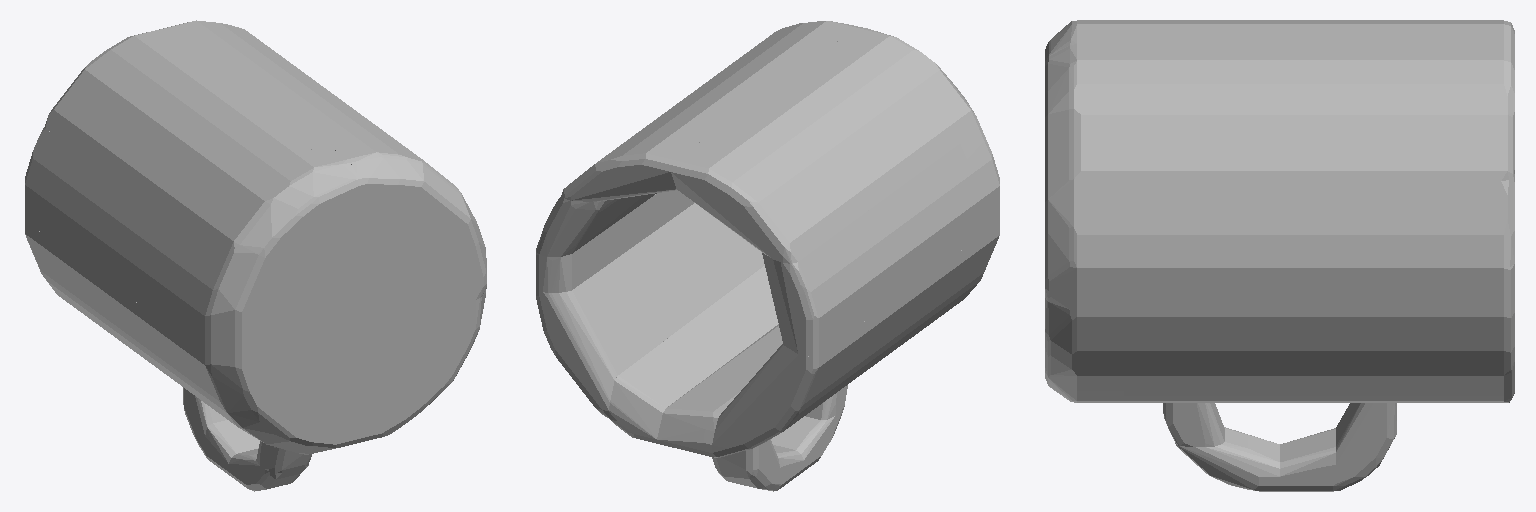
robot.urdf — root:
<?xml version="1.0"?>
<robot name="root">
  <link name="base_link">
    <visual>
      <origin xyz="0 0 0" rpy="0 0 0" />
      <geometry>
        <mesh filename="../meshes/unidex_core_mug-4b8b10d03552e0891898dfa8eb8eefff_006.obj" scale="1.0000E+00 1.0000E+00 1.0000E+00" />
      </geometry>
      <material name="">
        <color rgba="7.50E-01 7.50E-01 7.50E-01 1" />
      </material>
    </visual>
    <collision>
      <origin xyz="0 0 0" rpy="0 0 0" />
      <geometry>
        <mesh filename="../meshes/unidex_core_mug-4b8b10d03552e0891898dfa8eb8eefff_006.obj" scale="1.0000E+00 1.0000E+00 1.0000E+00" />
      </geometry>
    </collision>
  </link>
</robot>

--- Render facts (derived) ---
3 views of the same robot in one strip: view 1: azimuth 30°, elevation 25°; view 2: azimuth 150°, elevation 25°; view 3: azimuth 270°, elevation 25° (orthographic).
Robot: root — 1 links, 0 joints (none); root link base_link; default pose: all joints at 0.
Links seen in each view (by area): view 1: base_link; view 2: base_link; view 3: base_link.
Boxes of the visible links, left/top/right/bottom form: base_link: left=25, top=20, right=486, bottom=491; base_link: left=536, top=21, right=999, bottom=491; base_link: left=1045, top=20, right=1514, bottom=491.
Size in the robot's own frame: 0.0672 by 0.0822 by 0.0859 metres.
1 mesh visuals loaded from 1 distinct referenced files (1 OBJ).
